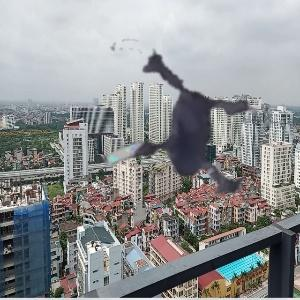drone: (29, 11, 282, 264)
